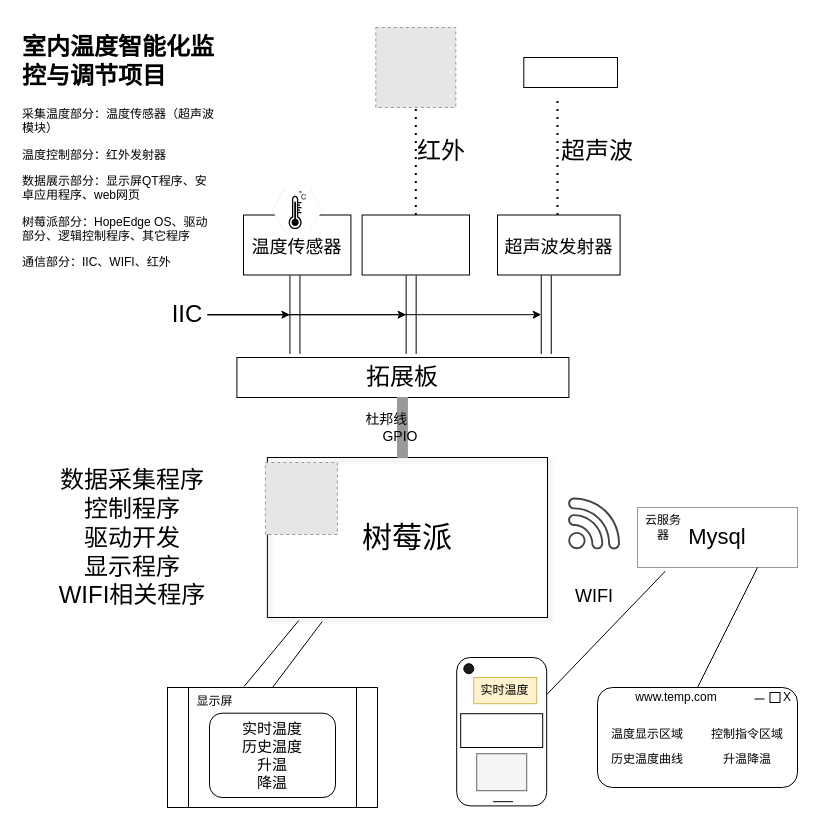
This 815x825 diagram has some shape labels left out. Grey dashed boxes stand in for pictures. Each missing label, with the centre of its shape:
升温 降温: the point at 501,772
历史温度曲线: the point at 501,730
红外发射器: the point at 415,244
超声波接收器: the point at 570,72
